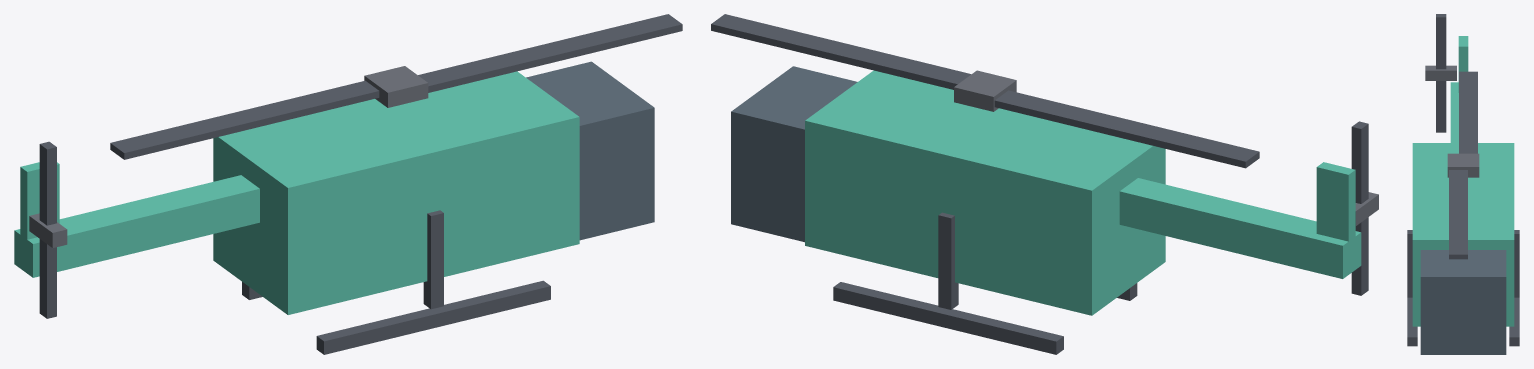
File: helicopter_buy.glb
3 views of the same model, side by side, from view 1: azimuth 30°, elevation 25°; view 2: azimuth 150°, elevation 25°; view 3: azimuth 270°, elevation 25° (orthographic). The views are drawn at different scales.
Visible parts, largest first — view 1: body, rotor, tailRotor; view 2: body, rotor, tailRotor; view 3: body, rotor, tailRotor.
Boxes of the visible parts, box(x1,y1,x2,y2) form: body: box(14, 61, 654, 354); rotor: box(110, 14, 682, 159); tailRotor: box(29, 141, 67, 318); body: box(731, 66, 1361, 354); rotor: box(711, 14, 1259, 168); tailRotor: box(1351, 121, 1378, 295); body: box(1407, 36, 1519, 354); rotor: box(1447, 71, 1479, 259); tailRotor: box(1425, 14, 1456, 132).
Bounding box in the file's own units: 8 × 2.98 × 1.76.
